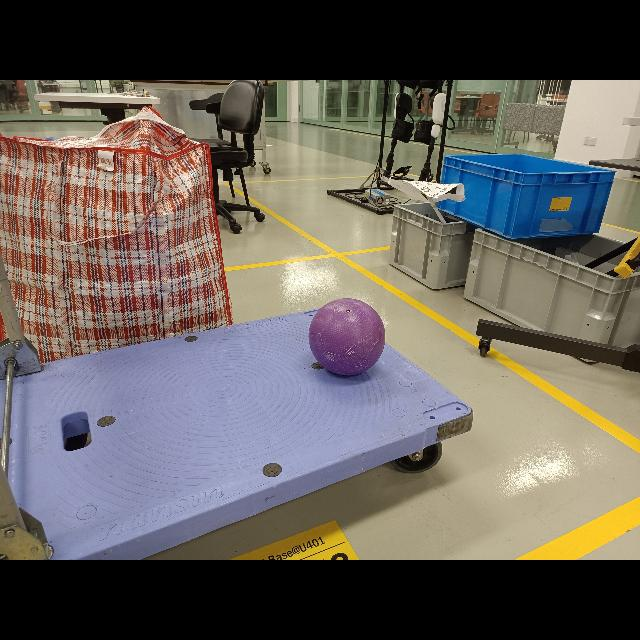P: (310, 296, 386, 378)
